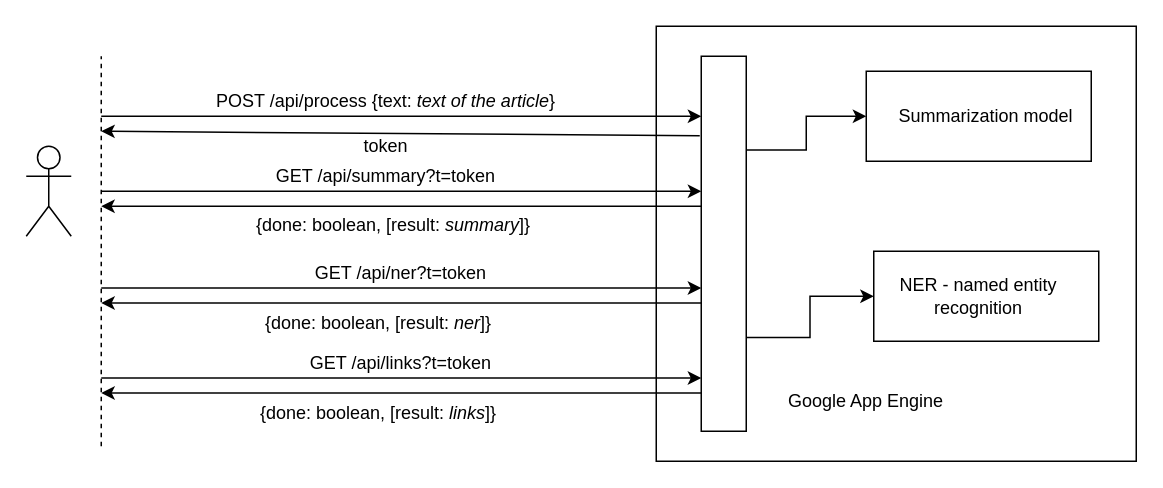
The diagram is 1163 pixels wide and 488 high, and some of its shapes have lost their labels. The centre of each missing label's shape, as x and y in pixels:
Actor: [48,190]
Backend: [723,243]
